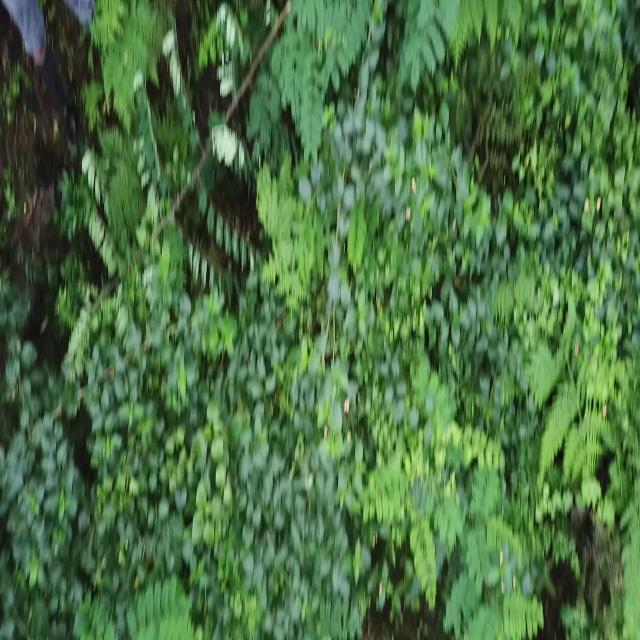Mysore-Thorn-Weed: (52, 0, 457, 366)
